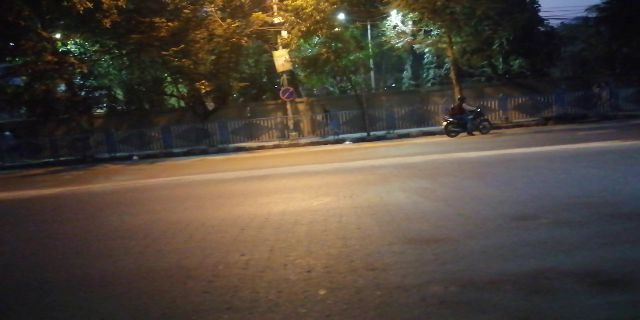Motorbike: (431, 95, 500, 137)
